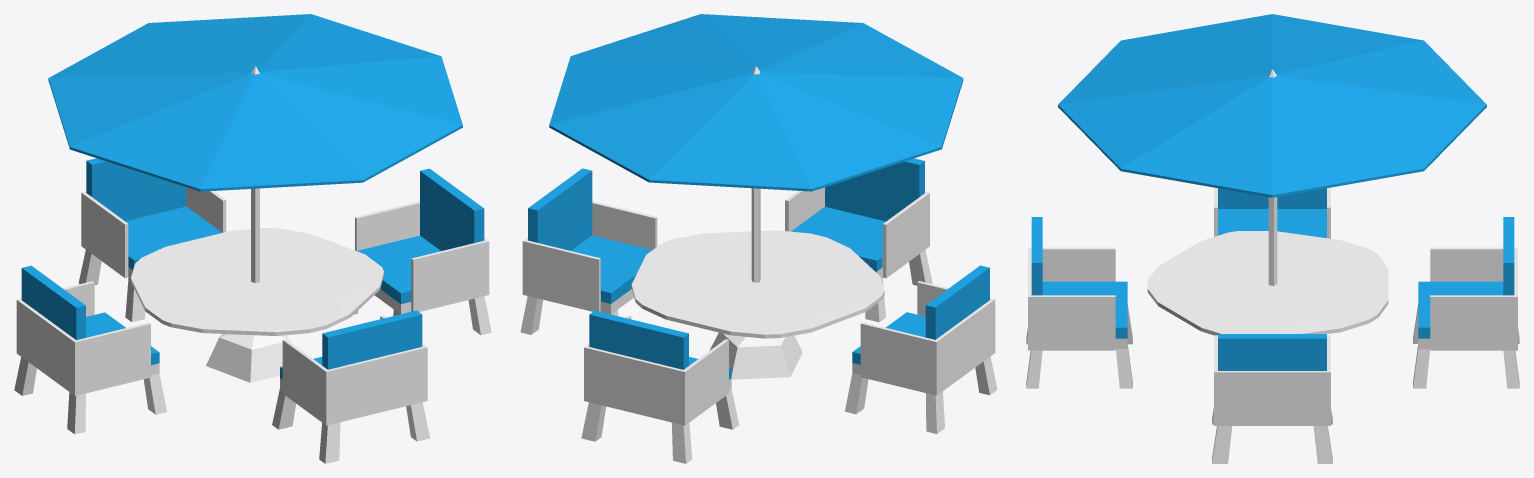
File: KursiSenja.fbx
3 views of the same model, side by side, from view 1: azimuth 30°, elevation 25°; view 2: azimuth 150°, elevation 25°; view 3: azimuth 270°, elevation 25° (orthographic).
Visible parts, largest first — view 1: Cylinder.001, Cylinder, Cube.006, Cube.008, Cube.009, Cube.007; view 2: Cylinder.001, Cylinder, Cube.007, Cube.008, Cube.009, Cube.006; view 3: Cylinder.001, Cylinder, Cube.008, Cube.006, Cube.007, Cube.009.
Part boxes in pixels (x1=…): Cylinder.001: x1=48, y1=14, x2=462, y2=191; Cylinder: x1=131, y1=66, x2=383, y2=382; Cube.006: x1=272, y1=310, x2=429, y2=463; Cube.008: x1=354, y1=168, x2=491, y2=335; Cube.009: x1=14, y1=265, x2=166, y2=434; Cube.007: x1=78, y1=158, x2=226, y2=322; Cylinder.001: x1=549, y1=14, x2=963, y2=191; Cylinder: x1=631, y1=66, x2=884, y2=379; Cube.007: x1=581, y1=310, x2=739, y2=463; Cube.008: x1=520, y1=168, x2=657, y2=334; Cube.009: x1=845, y1=265, x2=997, y2=433; Cube.006: x1=785, y1=158, x2=932, y2=322; Cylinder.001: x1=1058, y1=14, x2=1486, y2=197; Cylinder: x1=1147, y1=69, x2=1388, y2=335; Cube.008: x1=1212, y1=334, x2=1332, y2=463; Cube.006: x1=1026, y1=217, x2=1132, y2=388; Cube.007: x1=1413, y1=217, x2=1519, y2=388; Cube.009: x1=1214, y1=187, x2=1330, y2=238.
Size of the model in its own units: 442 by 298 by 453.
